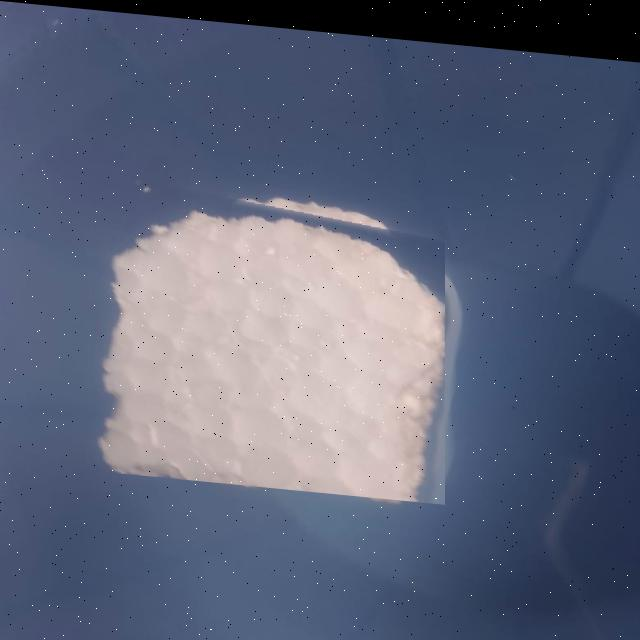thermocoal: (87, 168, 445, 495)
